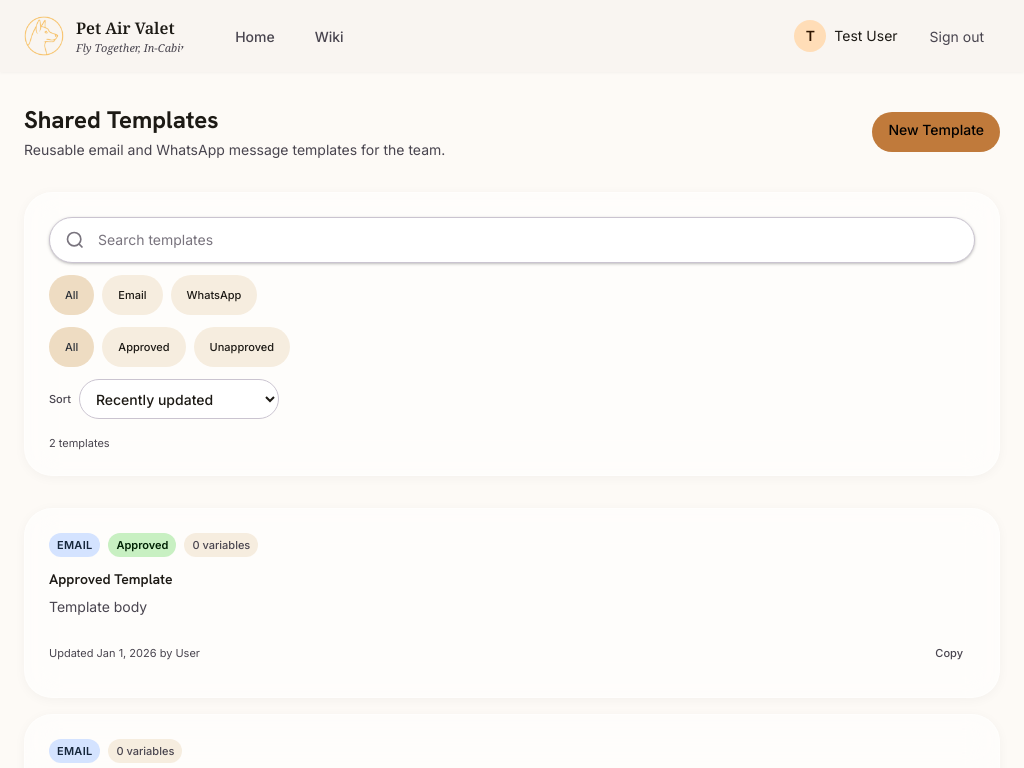
Scenario: TemplatesPage › filters templates by approved status
expect the heading "Approved Template" is shown: met, box [49, 570, 173, 588]
What coordinates should you click on to do the following:
click the button "Approved"
I would click on:
 (144, 347)
Its box is [102, 327, 186, 367].
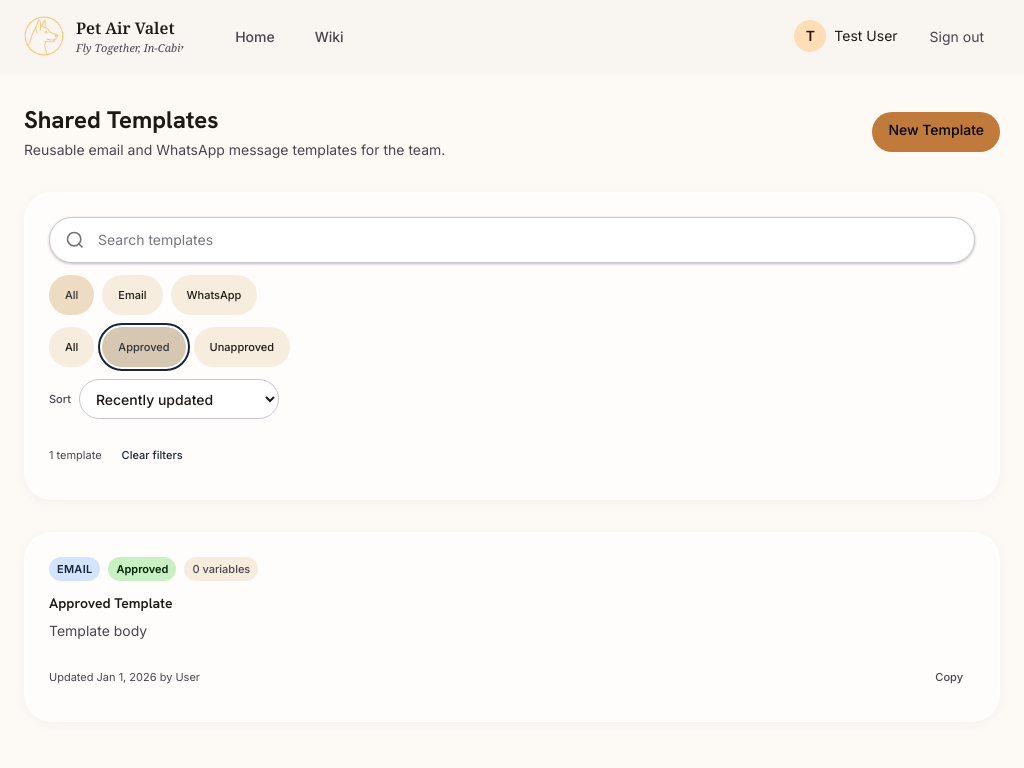
expect the heading "Approved Template" is shown: met, box [49, 594, 173, 612]
What coordinates should you click on to do the following:
click the button "Unapproved"
I would click on:
 (242, 347)
Its box is [194, 327, 290, 367].
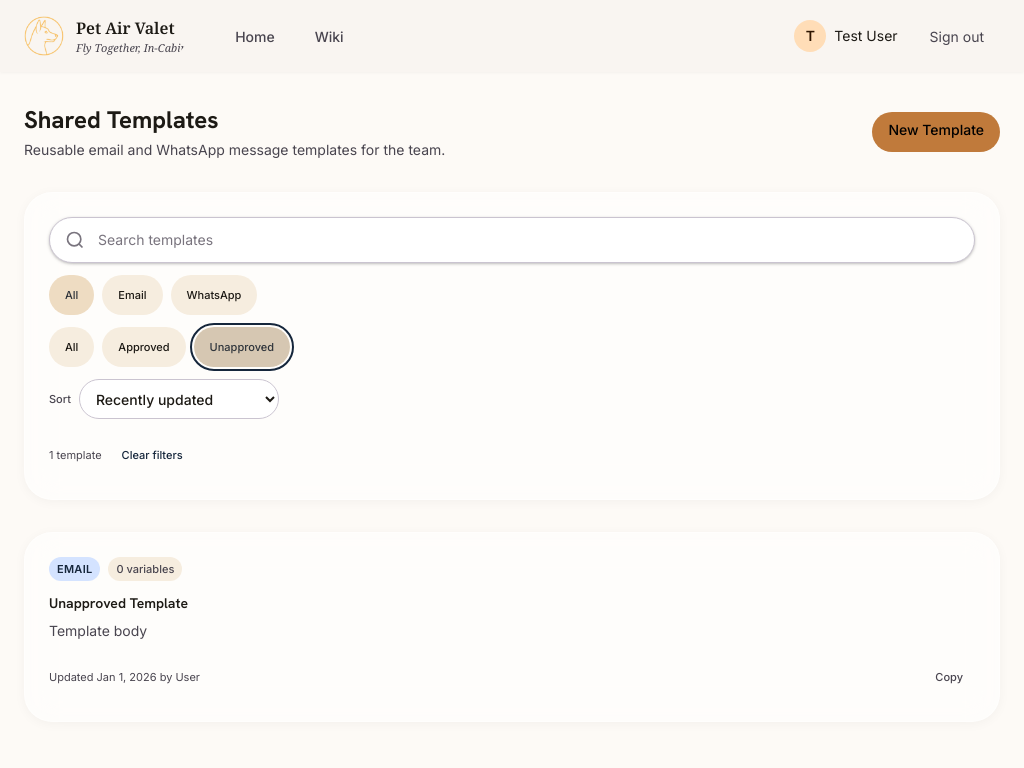
expect the heading "Unapproved Template" is shown: met, box [49, 594, 188, 612]
What coordinates should you click on to do the following:
click the 2nd button "All"
I would click on:
 (72, 347)
Its box is [49, 327, 94, 367].
(page scrolled)
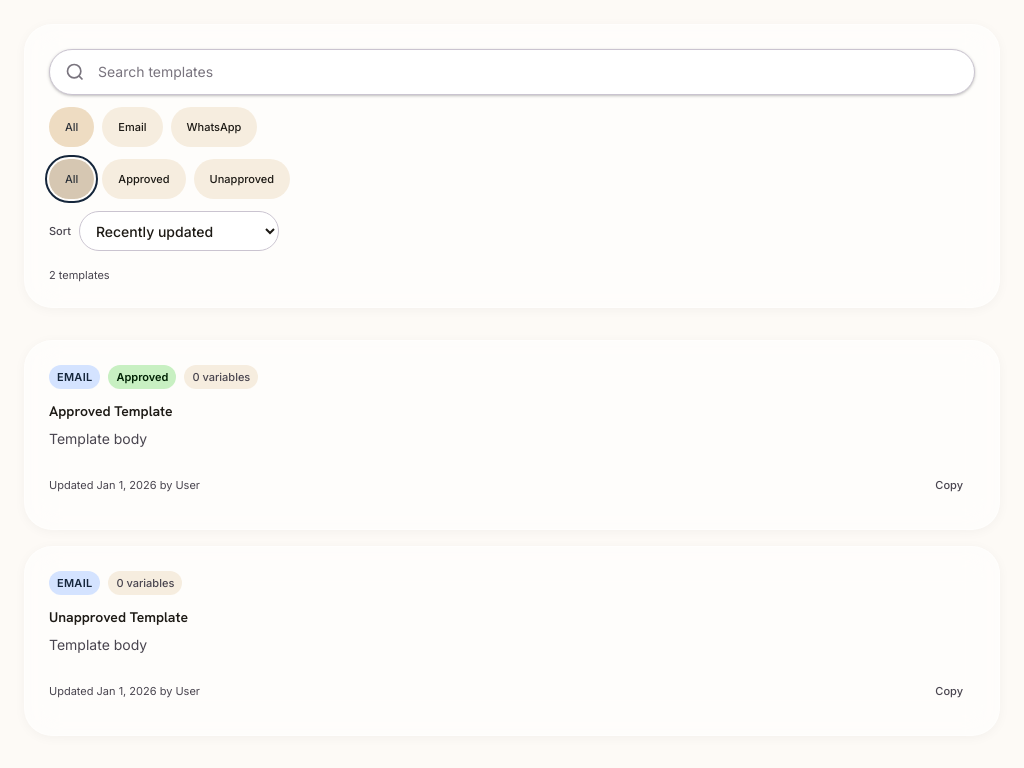
expect the heading "Unapproved Template" is shown: met, box [49, 608, 188, 626]
expect the heading "Approved Template" is shown: met, box [49, 402, 173, 420]
